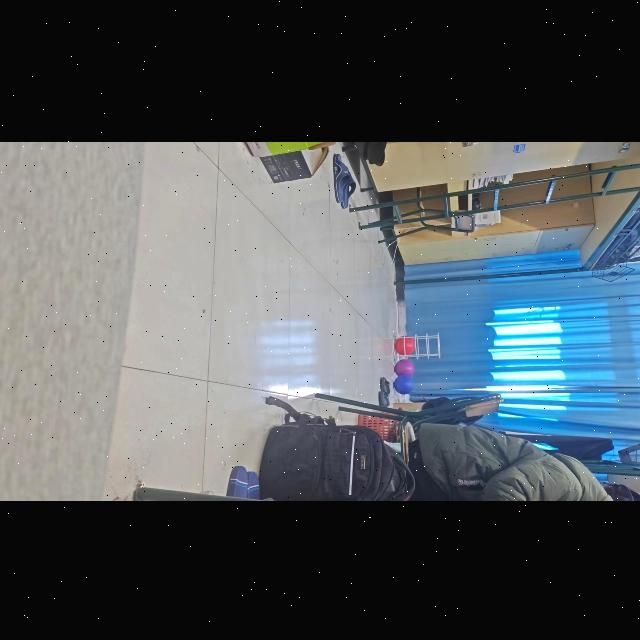B: (393, 330, 442, 358), (391, 378, 417, 396)
P: (392, 357, 416, 375)
R: (393, 334, 415, 356)
